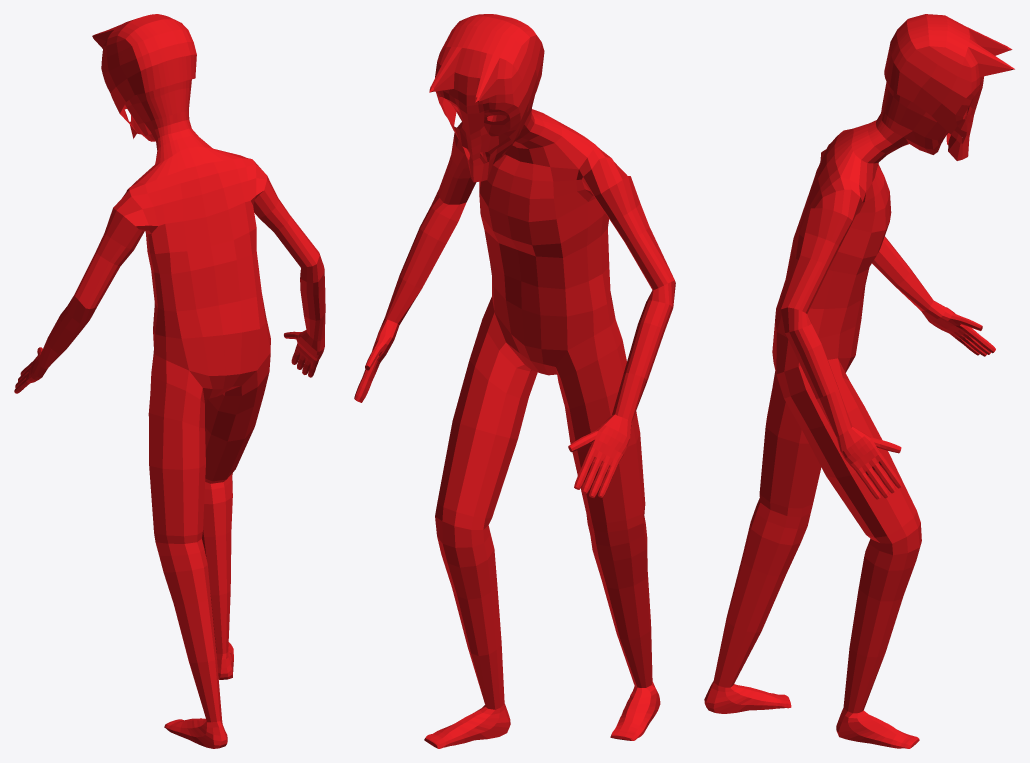
Rendered from marchaE_000049.obj.
3 views of the same model, side by side, from view 1: azimuth 30°, elevation 25°; view 2: azimuth 150°, elevation 25°; view 3: azimuth 270°, elevation 25° (orthographic). The views are drawn at different scales.
Visible parts, largest first — view 1: Plane.002_Plane.001; view 2: Plane.002_Plane.001; view 3: Plane.002_Plane.001.
Boxes of the visible parts, left/top/right/bottom form: Plane.002_Plane.001: left=14, top=14, right=325, bottom=748; Plane.002_Plane.001: left=354, top=14, right=675, bottom=748; Plane.002_Plane.001: left=704, top=14, right=1014, bottom=748.
Bounding box in the file's own units: 2.76 × 6.72 × 2.68.
